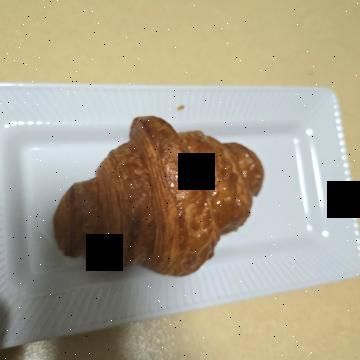croissant: (110, 78, 294, 304)
